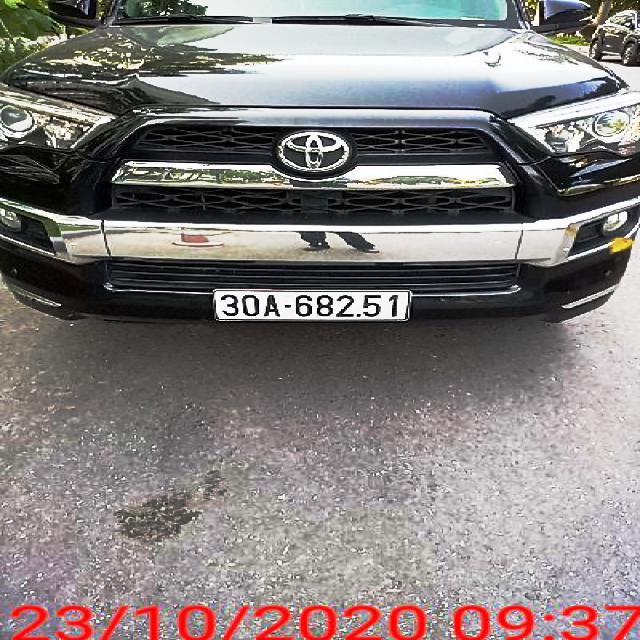license_plate: (217, 289, 411, 319)
